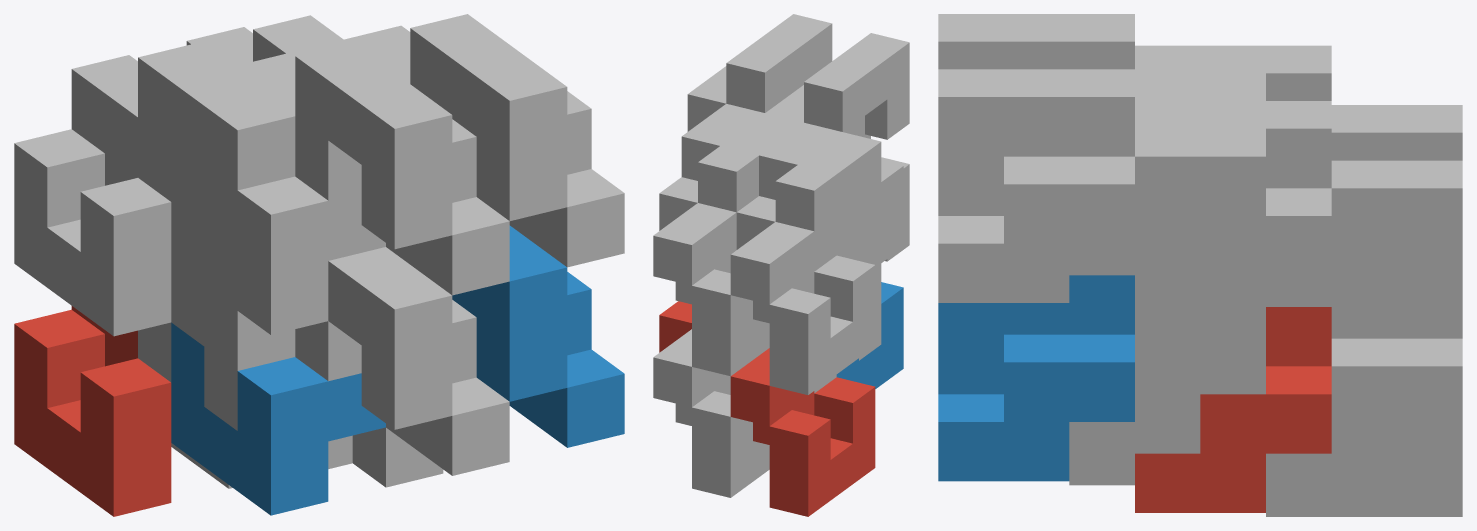
Rendered from tiling.obj.
3 renders of one model, left to right at view 1: azimuth 30°, elevation 25°; view 2: azimuth 150°, elevation 25°; view 3: azimuth 270°, elevation 25°, orthographic. The views are drawn at different scales.
Parts seen in each view (by area): view 1: copy_2_domain_4, copy_1_domain_3, copy_2_domain_8, copy_2_domain_2, copy_1_domain_1, copy_1_domain_4, copy_1_domain_2, copy_2_domain_6, copy_2_domain_3, copy_2_domain_1, copy_1_domain_6, copy_2_domain_7 (+2 smaller); view 2: copy_1_domain_3, copy_1_domain_1, copy_1_domain_7, copy_2_domain_3, copy_1_domain_5, copy_2_domain_4, copy_2_domain_8, copy_1_domain_4, copy_2_domain_7, copy_1_domain_2, copy_1_domain_8, copy_2_domain_5 (+2 smaller); view 3: copy_2_domain_8, copy_2_domain_6, copy_1_domain_5, copy_2_domain_7, copy_1_domain_7, copy_2_domain_5, copy_1_domain_8, copy_1_domain_6, copy_2_domain_4, copy_2_domain_3, copy_1_domain_3, copy_1_domain_4.
Part boxes in pixels (x1,y1,x2,y2): copy_2_domain_4: (295,42,509,295); copy_1_domain_3: (14,55,171,336); copy_2_domain_8: (410,14,624,267); copy_2_domain_2: (295,247,509,475); copy_1_domain_1: (14,306,171,516); copy_1_domain_4: (171,53,385,334); copy_1_domain_2: (171,322,385,515); copy_2_domain_6: (452,225,624,447); copy_2_domain_3: (138,43,295,250); copy_2_domain_1: (138,262,352,468); copy_1_domain_6: (352,427,443,487); copy_2_domain_7: (253,15,347,61); copy_1_domain_3: (730,222,875,394); copy_1_domain_1: (730,348,875,516); copy_1_domain_7: (653,203,769,376); copy_2_domain_3: (736,132,881,271); copy_1_domain_5: (653,329,769,497); copy_2_domain_4: (765,33,909,139); copy_2_domain_8: (687,14,832,131); copy_1_domain_4: (759,122,903,267); copy_2_domain_7: (659,113,803,230); copy_1_domain_2: (836,282,903,388); copy_1_domain_8: (681,104,764,180); copy_2_domain_5: (659,301,691,352); copy_2_domain_8: (938,69,1134,302); copy_2_domain_6: (938,275,1134,481); copy_1_domain_5: (1266,338,1462,516); copy_2_domain_7: (1135,101,1331,334); copy_1_domain_7: (1266,160,1462,338); copy_2_domain_5: (1135,307,1331,512); copy_1_domain_8: (1069,128,1265,275); copy_1_domain_6: (1069,334,1265,485); copy_2_domain_4: (938,14,1134,69); copy_2_domain_3: (1135,45,1331,100); copy_1_domain_3: (1331,105,1462,160); copy_1_domain_4: (1135,73,1265,100).
Size of the model in its own units: 6 by 8 by 8.
